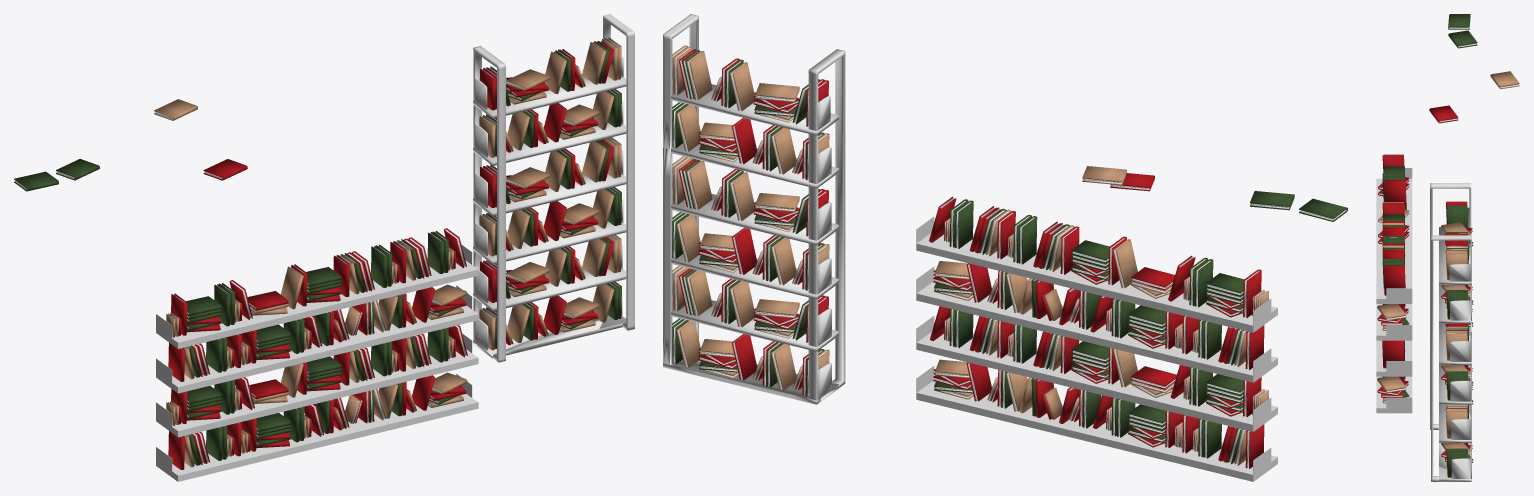
Rendered from EstanteriaBajaConBordes.fbx.
3 views of the same model, side by side, from view 1: azimuth 30°, elevation 25°; view 2: azimuth 150°, elevation 25°; view 3: azimuth 270°, elevation 25° (orthographic). The views are drawn at different scales.
Visible parts, largest first — view 1: LibroRojoOK, estanteriaBAJA, libro.032, libro.056; view 2: estanteriaBAJA, LibroRojoOK, libro.032, libro.056, libro.023, libro.064, libro.095, libro.046, libro.094, libro.122, libro.087, libro.079 (+9 smaller); view 3: LibroRojoOK, estanteriaBAJA, libro.132, libro.153, libro.254, libro.017, libro.014, libro.005, libro.010, libro.302, libro.180, libro.011 (+12 smaller).
Boxes of the visible parts, left/top/right/bottom form: LibroRojoOK: left=473, top=14, right=634, bottom=362; estanteriaBAJA: left=156, top=244, right=478, bottom=481; libro.032: left=582, top=42, right=606, bottom=84; libro.056: left=582, top=141, right=606, bottom=182; estanteriaBAJA: left=916, top=216, right=1277, bottom=481; LibroRojoOK: left=663, top=14, right=845, bottom=404; libro.032: left=686, top=51, right=712, bottom=99; libro.056: left=686, top=161, right=712, bottom=209; libro.023: left=730, top=62, right=754, bottom=111; libro.064: left=730, top=172, right=754, bottom=220; libro.095: left=771, top=237, right=796, bottom=285; libro.046: left=771, top=127, right=796, bottom=174; libro.094: left=732, top=227, right=756, bottom=274; libro.122: left=771, top=343, right=796, bottom=390; libro.087: left=686, top=270, right=712, bottom=315; libro.079: left=730, top=281, right=754, bottom=327; LibroRojoOK: left=1430, top=183, right=1471, bottom=481; estanteriaBAJA: left=1376, top=168, right=1412, bottom=413; libro.132: left=1383, top=265, right=1405, bottom=295; libro.153: left=1384, top=180, right=1406, bottom=209; libro.254: left=1382, top=340, right=1404, bottom=368; libro.017: left=1446, top=205, right=1468, bottom=227; libro.014: left=1490, top=71, right=1519, bottom=88; libro.005: left=1429, top=105, right=1458, bottom=123; libro.010: left=1448, top=30, right=1477, bottom=48; libro.302: left=1377, top=376, right=1406, bottom=392; libro.180: left=1377, top=304, right=1406, bottom=320; libro.011: left=1448, top=14, right=1470, bottom=29.
Size of the model in its own units: 803 by 393 by 203.
